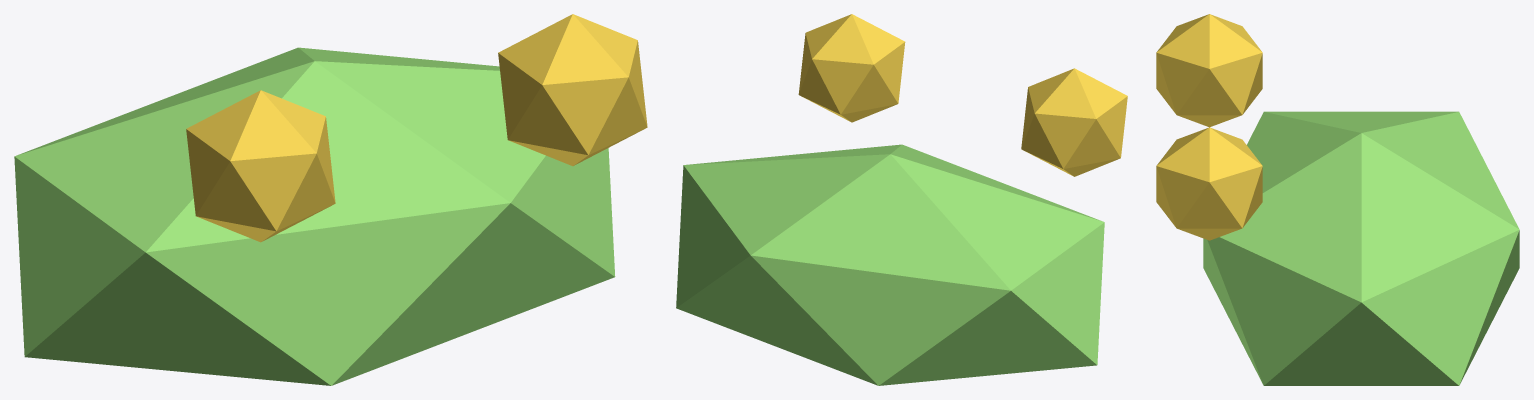
The model's file is Frog.fbx.
3 views of the same model, side by side, from view 1: azimuth 30°, elevation 25°; view 2: azimuth 150°, elevation 25°; view 3: azimuth 270°, elevation 25° (orthographic). The views are drawn at different scales.
Visible parts, largest first — view 1: FrogBody, FrogEye_0.15, FrogEye_-0.15; view 2: FrogBody, FrogEye_-0.15, FrogEye_0.15; view 3: FrogBody, FrogEye_0.15, FrogEye_-0.15.
Part boxes in pixels (x1,y1,x2,y2): FrogBody: (14,47,615,385); FrogEye_0.15: (498,14,647,166); FrogEye_-0.15: (186,90,335,242); FrogBody: (676,144,1104,385); FrogEye_-0.15: (1021,68,1127,176); FrogEye_0.15: (798,14,905,122); FrogBody: (1203,111,1519,385); FrogEye_0.15: (1156,127,1262,240); FrogEye_-0.15: (1156,14,1262,127).
Size of the model in its own units: 0.5581 by 0.363 by 0.4065.
